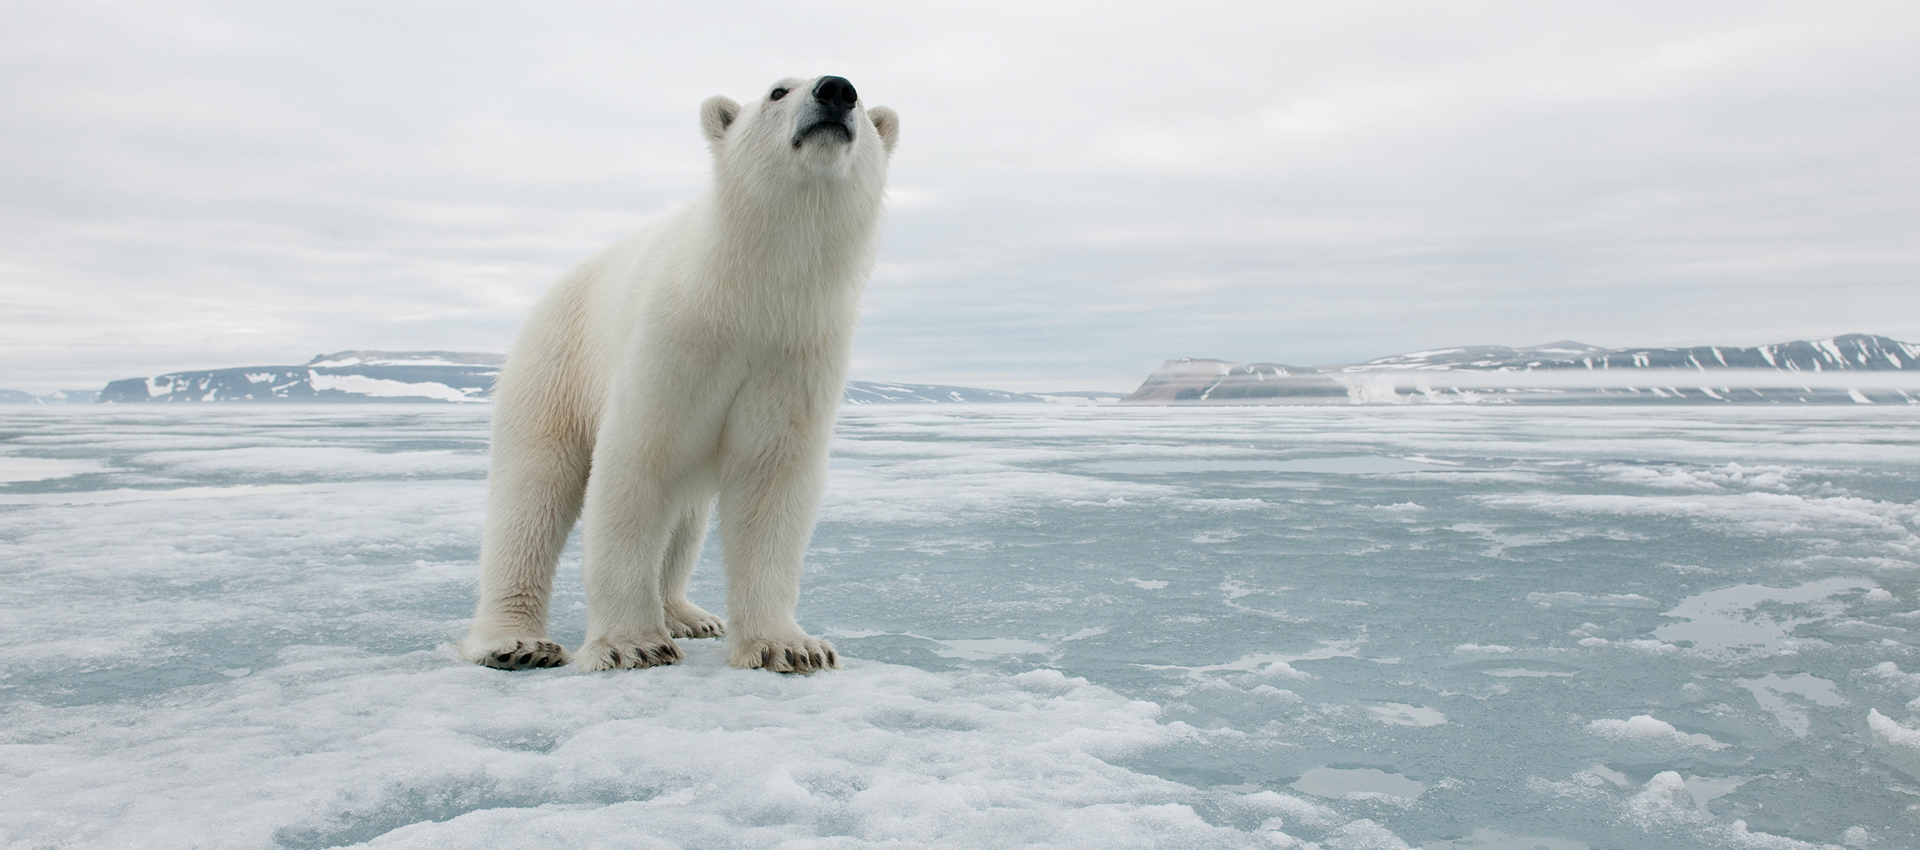Polar Bear: (413, 6, 940, 754)
